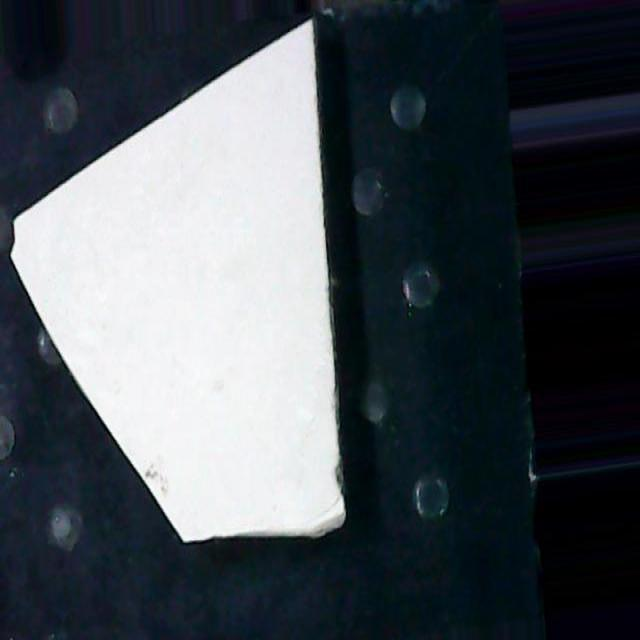-Other waste - ceramic-: (17, 21, 347, 546)
